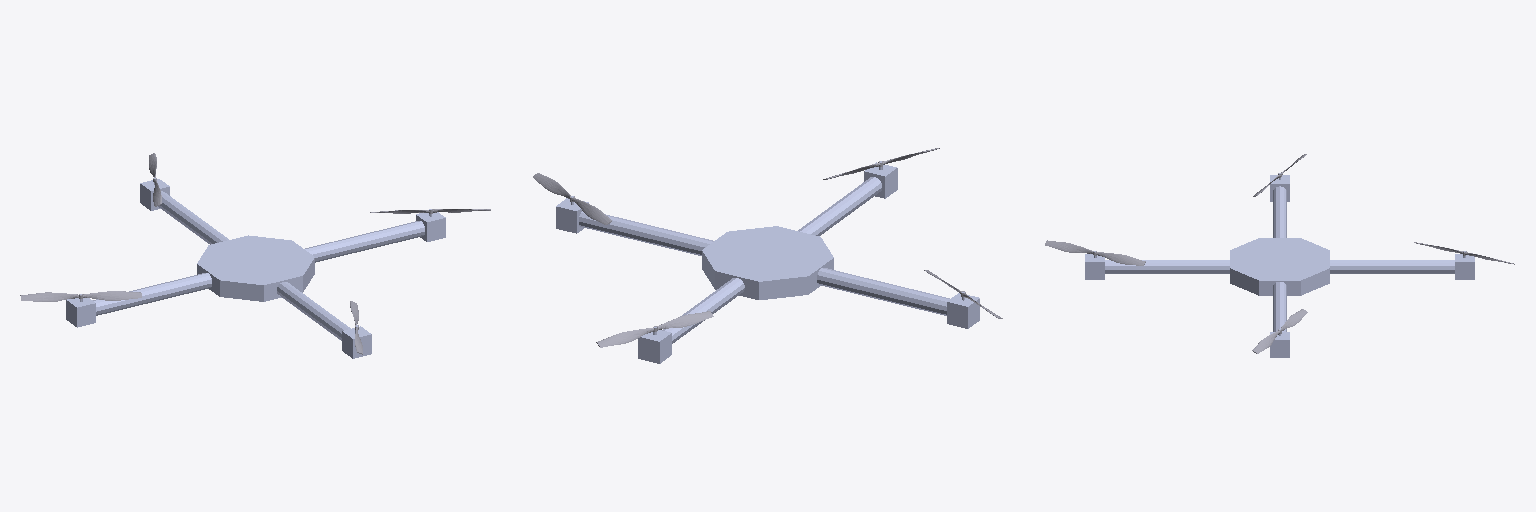
URDF robot description (quadURDF):
<?xml version="1.0" encoding="utf-8"?>
<!-- This URDF was automatically created by SolidWorks to URDF Exporter! Originally created by [author] ([email redacted]) 
     Commit Version: 1.6.0-1-g15f4949  Build Version: 1.6.7594.29634
     For more information, please see http://wiki.ros.org/sw_urdf_exporter -->
<robot
  name="quadURDF">
  <link
    name="base_link">
    <inertial>
      <origin
        xyz="-3.6070440149236E-17 -1.47456534203168E-18 0.0125"
        rpy="0 0 0" />
      <mass
        value="0.566521222584605" />
      <inertia
        ixx="0.00243159352122455"
        ixy="-1.18991504556746E-17"
        ixz="7.48197876172947E-21"
        iyy="0.00243159352122455"
        iyz="1.33625404719829E-18"
        izz="0.0048044927631521" />
    </inertial>
    <visual>
      <origin
        xyz="0 0 0"
        rpy="0 0 0" />
      <geometry>
        <mesh
          filename="package://quadURDF/meshes/base_link.STL" />
      </geometry>
      <material
        name="">
        <color
          rgba="0.792156862745098 0.819607843137255 0.933333333333333 1" />
      </material>
    </visual>
    <collision>
      <origin
        xyz="0 0 0"
        rpy="0 0 0" />
      <geometry>
        <mesh
          filename="package://quadURDF/meshes/base_link.STL" />
      </geometry>
    </collision>
  </link>
  <link
    name="wrist_link_1">
    <inertial>
      <origin
        xyz="-0.00199615303675466 0.0151173129424723 -7.60189482392172E-17"
        rpy="0 0 0" />
      <mass
        value="0.0214236730398781" />
      <inertia
        ixx="3.75617306882312E-06"
        ixy="-5.01687977256722E-09"
        ixz="-9.85896168159331E-23"
        iyy="3.36475146490776E-06"
        iyz="-5.81603067114864E-23"
        izz="3.41564364162765E-06" />
    </inertial>
    <visual>
      <origin
        xyz="0 0 0"
        rpy="0 0 0" />
      <geometry>
        <mesh
          filename="package://quadURDF/meshes/wrist_link_1.STL" />
      </geometry>
      <material
        name="">
        <color
          rgba="0.792156862745098 0.819607843137255 0.933333333333333 1" />
      </material>
    </visual>
    <collision>
      <origin
        xyz="0 0 0"
        rpy="0 0 0" />
      <geometry>
        <mesh
          filename="package://quadURDF/meshes/wrist_link_1.STL" />
      </geometry>
    </collision>
  </link>
  <joint
    name="wrist_joint_1"
    type="fixed">
    <origin
      xyz="-0.275 0 -0.0025"
      rpy="1.5707963267949 0 0" />
    <parent
      link="base_link" />
    <child
      link="wrist_link_1" />
    <axis
      xyz="0 0 0" />
  </joint>
  <link
    name="prop_link_1">
    <inertial>
      <origin
        xyz="1.61770873713385E-06 0.00571701126621944 -0.000219313925957254"
        rpy="0 0 0" />
      <mass
        value="0.00282137176688324" />
      <inertia
        ixx="2.6492136610578E-08"
        ixy="-1.72405333636782E-11"
        ixz="4.11692393855716E-11"
        iyy="7.34611258663587E-06"
        iyz="1.13725468372896E-08"
        izz="7.34126100048224E-06" />
    </inertial>
    <visual>
      <origin
        xyz="0 0 0"
        rpy="0 0 0" />
      <geometry>
        <mesh
          filename="package://quadURDF/meshes/prop_link_1.STL" />
      </geometry>
      <material
        name="">
        <color
          rgba="0.67843137254902 0.67843137254902 0.729411764705882 1" />
      </material>
    </visual>
    <collision>
      <origin
        xyz="0 0 0"
        rpy="0 0 0" />
      <geometry>
        <mesh
          filename="package://quadURDF/meshes/prop_link_1.STL" />
      </geometry>
    </collision>
  </link>
  <joint
    name="prop_joint_1"
    type="continuous">
    <origin
      xyz="0 0.0317329168374843 0"
      rpy="0 -0.471058413408267 0" />
    <parent
      link="wrist_link_1" />
    <child
      link="prop_link_1" />
    <axis
      xyz="0 1 0" />
  </joint>
  <link
    name="wrist_link_2">
    <inertial>
      <origin
        xyz="-0.0019961530367546 0.0151173129424723 8.98565555219451E-16"
        rpy="0 0 0" />
      <mass
        value="0.0214236730398781" />
      <inertia
        ixx="3.75617306882312E-06"
        ixy="-5.01687977256778E-09"
        ixz="-1.59118118960889E-21"
        iyy="3.36475146490775E-06"
        iyz="1.8417294699041E-22"
        izz="3.41564364162765E-06" />
    </inertial>
    <visual>
      <origin
        xyz="0 0 0"
        rpy="0 0 0" />
      <geometry>
        <mesh
          filename="package://quadURDF/meshes/wrist_link_2.STL" />
      </geometry>
      <material
        name="">
        <color
          rgba="0.792156862745098 0.819607843137255 0.933333333333333 1" />
      </material>
    </visual>
    <collision>
      <origin
        xyz="0 0 0"
        rpy="0 0 0" />
      <geometry>
        <mesh
          filename="package://quadURDF/meshes/wrist_link_2.STL" />
      </geometry>
    </collision>
  </link>
  <joint
    name="wrist_joint_2"
    type="fixed">
    <origin
      xyz="0 -0.275 -0.00249999999999979"
      rpy="1.5707963267949 0 1.5707963267949" />
    <parent
      link="base_link" />
    <child
      link="wrist_link_2" />
    <axis
      xyz="0 0 0" />
  </joint>
  <link
    name="prop_link_2">
    <inertial>
      <origin
        xyz="3.17591298534814E-06 0.000649830774225972 -0.000438621011574367"
        rpy="0 0 0" />
      <mass
        value="0.00282137047763377" />
      <inertia
        ixx="2.64921398104155E-08"
        ixy="-1.66829666913551E-11"
        ixz="4.03989272167697E-11"
        iyy="7.34610885993875E-06"
        iyz="1.13725550487977E-08"
        izz="7.34125732415794E-06" />
    </inertial>
    <visual>
      <origin
        xyz="0 0 0"
        rpy="0 0 0" />
      <geometry>
        <mesh
          filename="package://quadURDF/meshes/prop_link_2.STL" />
      </geometry>
      <material
        name="">
        <color
          rgba="0.67843137254902 0.67843137254902 0.729411764705882 1" />
      </material>
    </visual>
    <collision>
      <origin
        xyz="0 0 0"
        rpy="0 0 0" />
      <geometry>
        <mesh
          filename="package://quadURDF/meshes/prop_link_2.STL" />
      </geometry>
    </collision>
  </link>
  <joint
    name="prop_joint_2"
    type="fixed">
    <origin
      xyz="-0.00010094395060628 0.0368000906666004 0.000194710459261401"
      rpy="0 -0.471058413408261 0" />
    <parent
      link="wrist_link_2" />
    <child
      link="prop_link_2" />
    <axis
      xyz="0 0 0" />
  </joint>
  <link
    name="wrist_link_3">
    <inertial>
      <origin
        xyz="-0.00199615303675471 0.0151173129424723 1.85350539290081E-15"
        rpy="0 0 0" />
      <mass
        value="0.0214236730398781" />
      <inertia
        ixx="3.75617306882313E-06"
        ixy="-5.01687977256737E-09"
        ixz="-3.15025659654471E-21"
        iyy="3.36475146490776E-06"
        iyz="-5.48186262843885E-23"
        izz="3.41564364162765E-06" />
    </inertial>
    <visual>
      <origin
        xyz="0 0 0"
        rpy="0 0 0" />
      <geometry>
        <mesh
          filename="package://quadURDF/meshes/wrist_link_3.STL" />
      </geometry>
      <material
        name="">
        <color
          rgba="0.792156862745098 0.819607843137255 0.933333333333333 1" />
      </material>
    </visual>
    <collision>
      <origin
        xyz="0 0 0"
        rpy="0 0 0" />
      <geometry>
        <mesh
          filename="package://quadURDF/meshes/wrist_link_3.STL" />
      </geometry>
    </collision>
  </link>
  <joint
    name="wrist_joint_3"
    type="fixed">
    <origin
      xyz="0.275 0 -0.0025"
      rpy="1.5707963267949 0 -3.14159265358979" />
    <parent
      link="base_link" />
    <child
      link="wrist_link_3" />
    <axis
      xyz="0 0 0" />
  </joint>
  <link
    name="prop_link_3">
    <inertial>
      <origin
        xyz="3.26752085721971E-06 0.000649829072999437 -0.000438617606276781"
        rpy="0 0 0" />
      <mass
        value="0.00282136770989785" />
      <inertia
        ixx="2.64920357130763E-08"
        ixy="-1.72047110748282E-11"
        ixz="4.13691210362547E-11"
        iyy="7.34610439774375E-06"
        iyz="1.13725070266749E-08"
        izz="7.34125289631278E-06" />
    </inertial>
    <visual>
      <origin
        xyz="0 0 0"
        rpy="0 0 0" />
      <geometry>
        <mesh
          filename="package://quadURDF/meshes/prop_link_3.STL" />
      </geometry>
      <material
        name="">
        <color
          rgba="0.67843137254902 0.67843137254902 0.729411764705882 1" />
      </material>
    </visual>
    <collision>
      <origin
        xyz="0 0 0"
        rpy="0 0 0" />
      <geometry>
        <mesh
          filename="package://quadURDF/meshes/prop_link_3.STL" />
      </geometry>
    </collision>
  </link>
  <joint
    name="prop_joint_3"
    type="fixed">
    <origin
      xyz="-0.00010094395060628 0.0368000906666004 0.000194710459262332"
      rpy="0 -0.471058413408258 0" />
    <parent
      link="wrist_link_3" />
    <child
      link="prop_link_3" />
    <axis
      xyz="0 0 0" />
  </joint>
  <link
    name="wrist_link_4">
    <inertial>
      <origin
        xyz="-0.00199615303675466 -0.0151173129424723 -2.83372844517877E-15"
        rpy="0 0 0" />
      <mass
        value="0.0214236730398781" />
      <inertia
        ixx="3.75617306882312E-06"
        ixy="5.01687977256657E-09"
        ixz="4.49504173522522E-21"
        iyy="3.36475146490775E-06"
        iyz="1.1860335585263E-22"
        izz="3.41564364162764E-06" />
    </inertial>
    <visual>
      <origin
        xyz="0 0 0"
        rpy="0 0 0" />
      <geometry>
        <mesh
          filename="package://quadURDF/meshes/wrist_link_4.STL" />
      </geometry>
      <material
        name="">
        <color
          rgba="0.792156862745098 0.819607843137255 0.933333333333333 1" />
      </material>
    </visual>
    <collision>
      <origin
        xyz="0 0 0"
        rpy="0 0 0" />
      <geometry>
        <mesh
          filename="package://quadURDF/meshes/wrist_link_4.STL" />
      </geometry>
    </collision>
  </link>
  <joint
    name="wrist_joint_4"
    type="fixed">
    <origin
      xyz="0 0.275 -0.0025000000000002"
      rpy="-1.5707963267949 0 -1.5707963267949" />
    <parent
      link="base_link" />
    <child
      link="wrist_link_4" />
    <axis
      xyz="0 0 0" />
  </joint>
  <link
    name="prop_link_4">
    <inertial>
      <origin
        xyz="3.12714303801753E-06 0.000649836928872216 -0.000438632776560408"
        rpy="0 0 0" />
      <mass
        value="0.00282137890672256" />
      <inertia
        ixx="2.64923452221767E-08"
        ixy="-1.65206989265725E-11"
        ixz="3.99761328731738E-11"
        iyy="7.3461294955047E-06"
        iyz="1.13726416792926E-08"
        izz="7.34127784785196E-06" />
    </inertial>
    <visual>
      <origin
        xyz="0 0 0"
        rpy="0 0 0" />
      <geometry>
        <mesh
          filename="package://quadURDF/meshes/prop_link_4.STL" />
      </geometry>
      <material
        name="">
        <color
          rgba="0.67843137254902 0.67843137254902 0.729411764705882 1" />
      </material>
    </visual>
    <collision>
      <origin
        xyz="0 0 0"
        rpy="0 0 0" />
      <geometry>
        <mesh
          filename="package://quadURDF/meshes/prop_link_4.STL" />
      </geometry>
    </collision>
  </link>
  <joint
    name="prop_joint_4"
    type="fixed">
    <origin
      xyz="-0.00010094395060628 -0.0368000906666004 -0.000194710459263326"
      rpy="-3.14159265358979 0.471058413408255 0" />
    <parent
      link="wrist_link_4" />
    <child
      link="prop_link_4" />
    <axis
      xyz="0 0 0" />
  </joint>
</robot>

--- Render facts (derived) ---
3 views of the same robot in one strip: view 1: azimuth 30°, elevation 25°; view 2: azimuth 150°, elevation 25°; view 3: azimuth 270°, elevation 25° (orthographic).
Model quadURDF with 9 links and 8 joints (1 continuous, 7 fixed), rooted at base_link, posed all joints at 0.
Visible links, largest first — view 1: base_link, prop_link_1, wrist_link_1, wrist_link_2, wrist_link_3; view 2: base_link, prop_link_4, wrist_link_4, wrist_link_1, prop_link_3, wrist_link_3, wrist_link_2; view 3: base_link, prop_link_2.
Link boxes in pixels (x1,y1,x2,y2): base_link: [93, 191, 424, 340]; prop_link_1: [20, 291, 141, 301]; wrist_link_1: [66, 294, 95, 327]; wrist_link_2: [342, 325, 371, 358]; wrist_link_3: [416, 209, 445, 241]; base_link: [579, 177, 949, 343]; prop_link_4: [596, 311, 713, 347]; wrist_link_4: [638, 327, 671, 363]; wrist_link_1: [947, 292, 979, 328]; prop_link_3: [533, 173, 611, 224]; wrist_link_3: [556, 196, 588, 233]; wrist_link_2: [864, 161, 897, 198]; base_link: [1105, 186, 1454, 331]; prop_link_2: [1045, 240, 1145, 265].
Size in the robot's own frame: 0.7011 by 0.7011 by 0.0422 metres.
Meshes: 9 distinct files referenced, 9 mesh visuals loaded (9 binary STL).